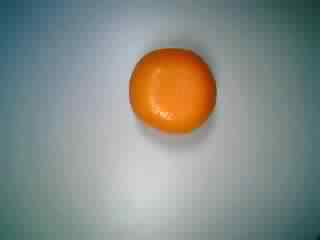orange: (127, 43, 222, 137)
